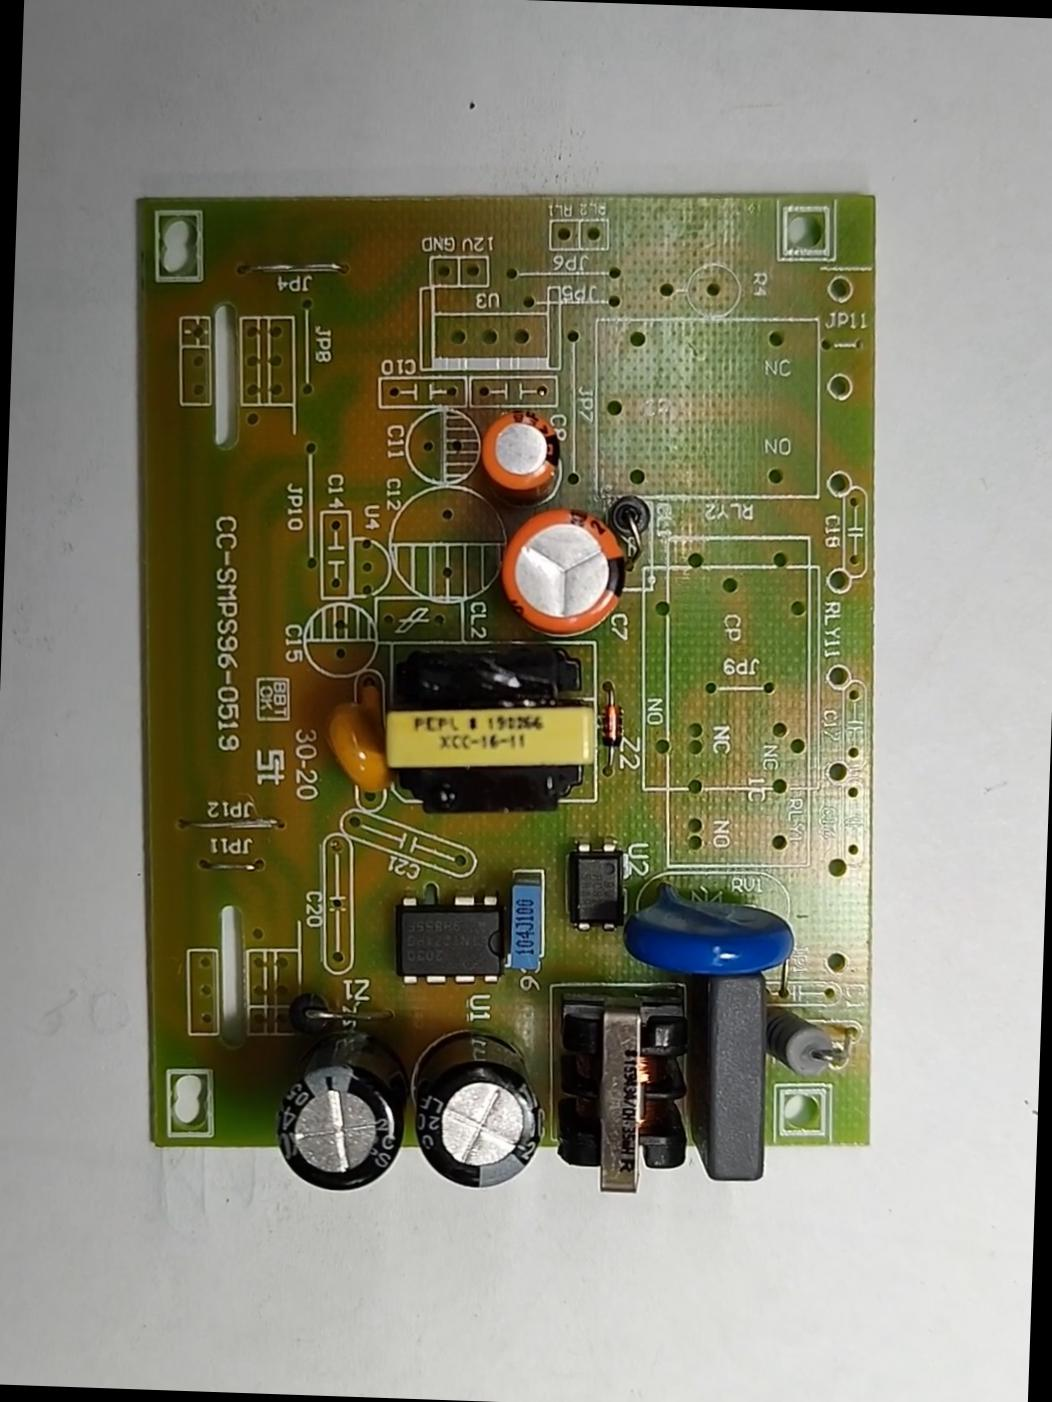Cap1: (495, 503, 625, 635)
Cap2: (476, 405, 566, 498)
Cap3: (410, 1031, 548, 1193)
Cap4: (271, 1021, 410, 1193)
MOSFET: (390, 892, 508, 988)
Mov: (618, 879, 798, 980)
Resistor: (765, 1009, 841, 1079)
Transformer: (372, 631, 598, 819), (554, 991, 697, 1200)
